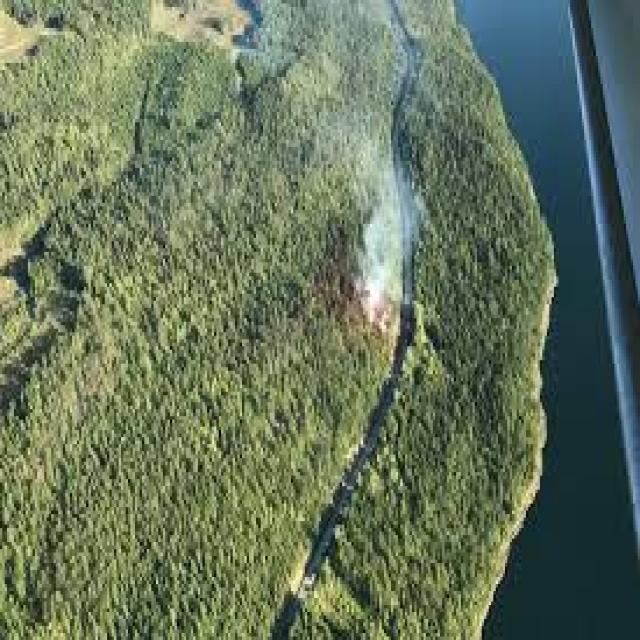Smoke: (332, 132, 437, 366)
